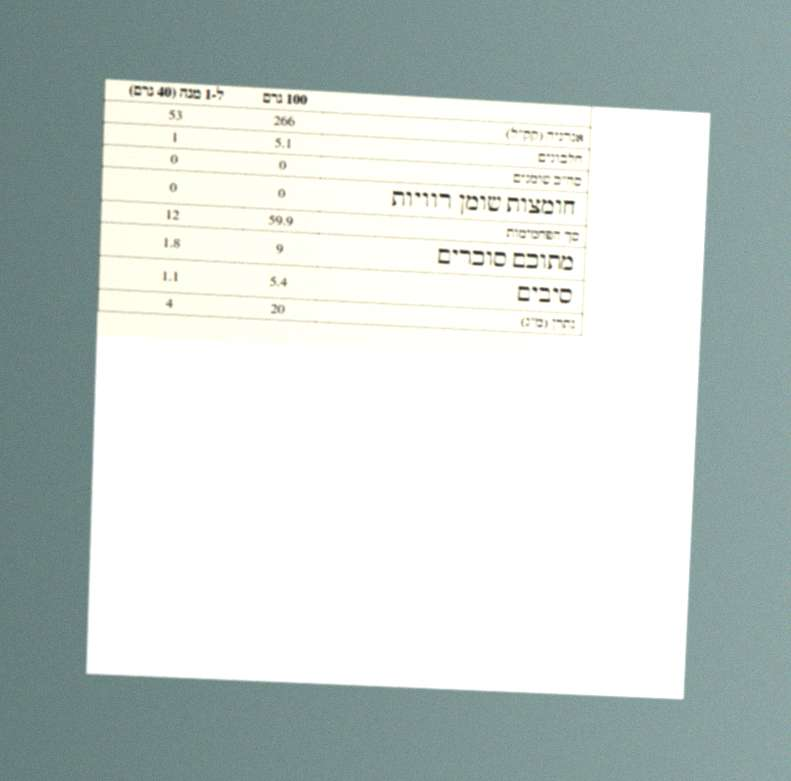carbs: (266, 211, 295, 230)
energy: (271, 112, 297, 131)
fat: (277, 156, 288, 174)
protein: (272, 134, 294, 152)
